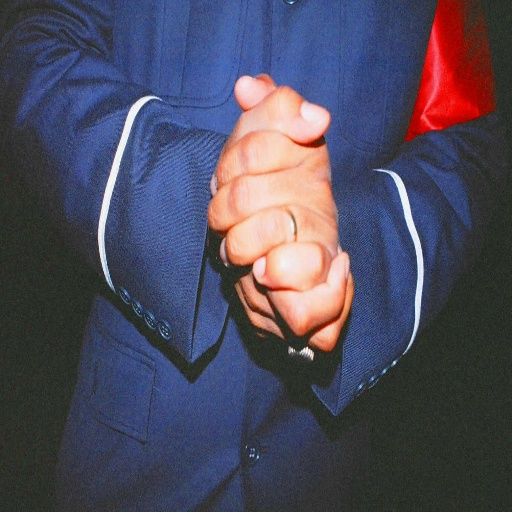hand: (232, 71, 357, 372)
